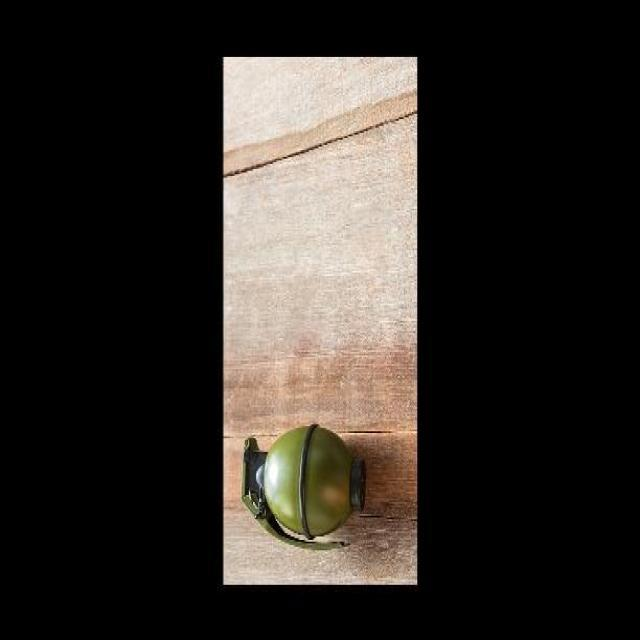Grenade: (241, 421, 366, 548)
